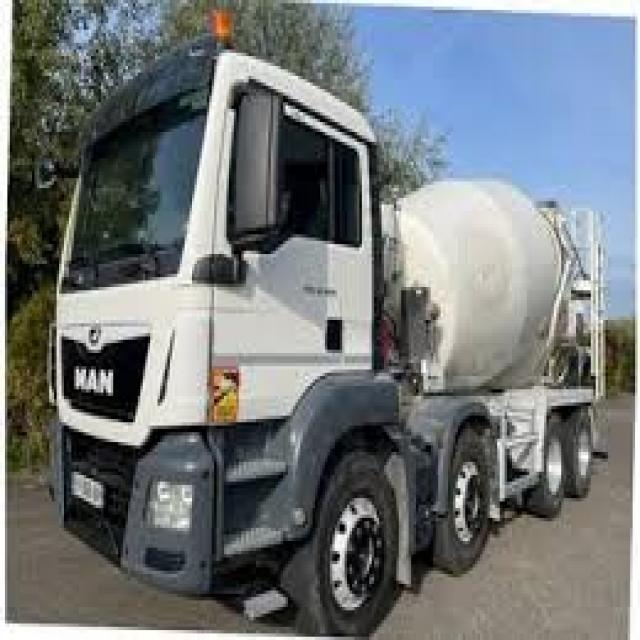Mixer Truck: (43, 7, 611, 635)
